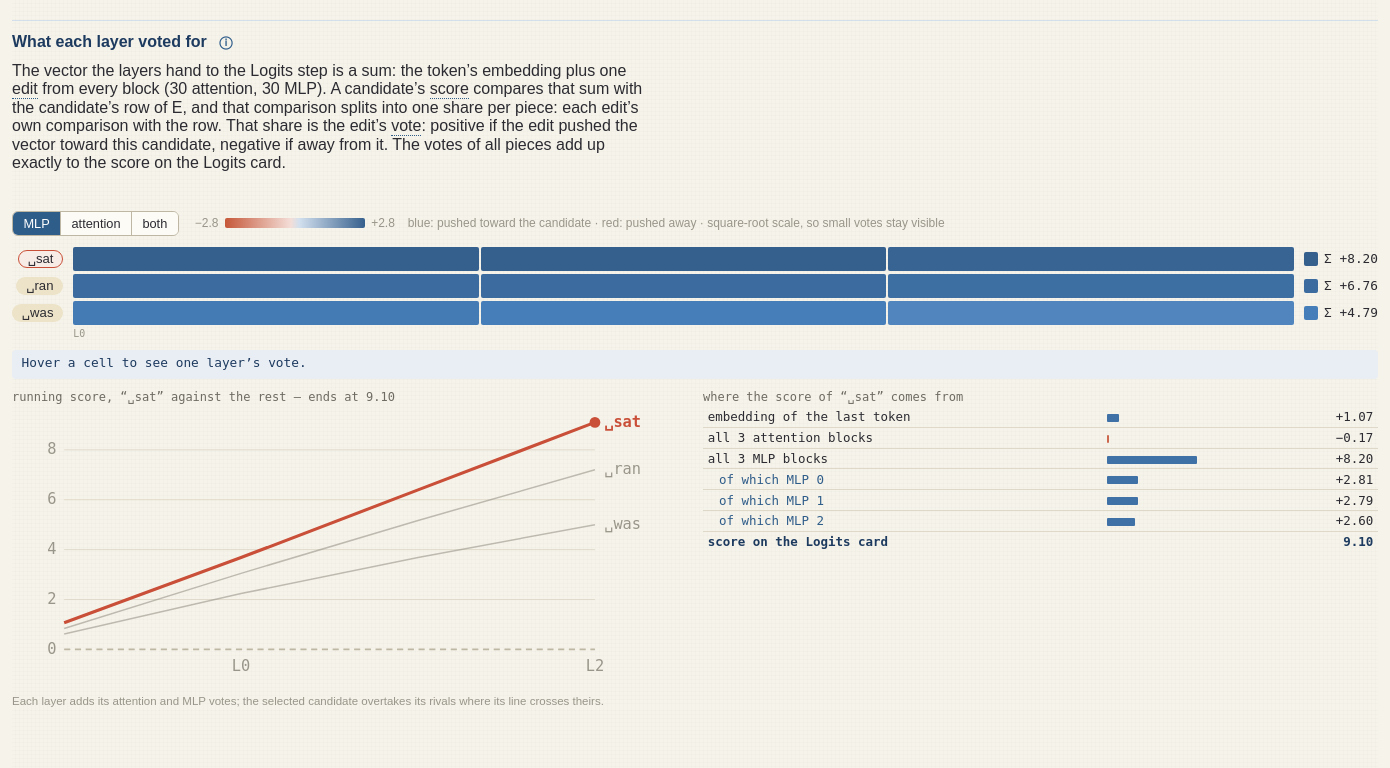
Test case: hovering a cell writes its vote into the readout line
The image size is (1390, 768).
Expected: the text with test id "vote-readout" shows "Hover a cell", [22, 355, 307, 370]
Hover over the 2nd element with test id "vote-cell" at (683, 259), box [481, 247, 886, 271]
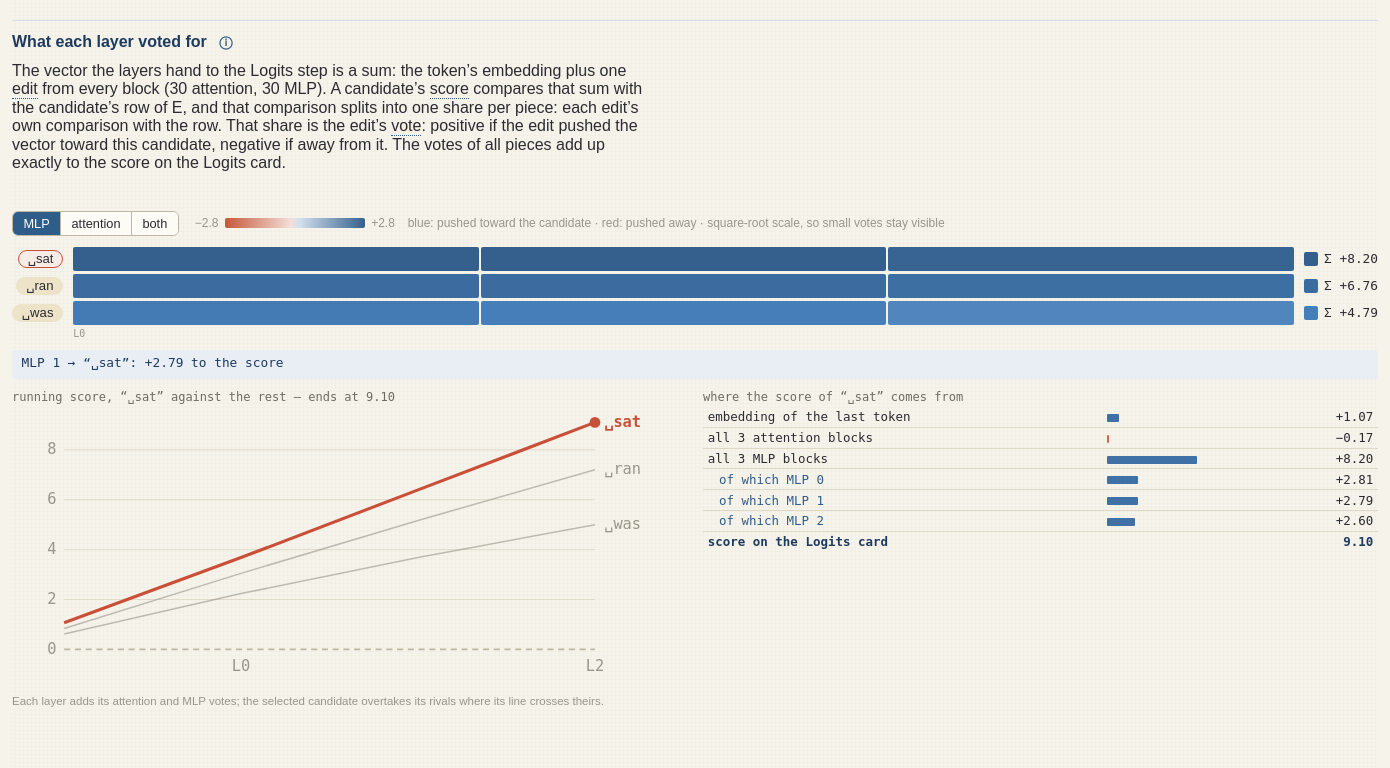
Click the button with test id "votes-block-toggle" showing "both" at (154, 223), box [131, 212, 178, 234]
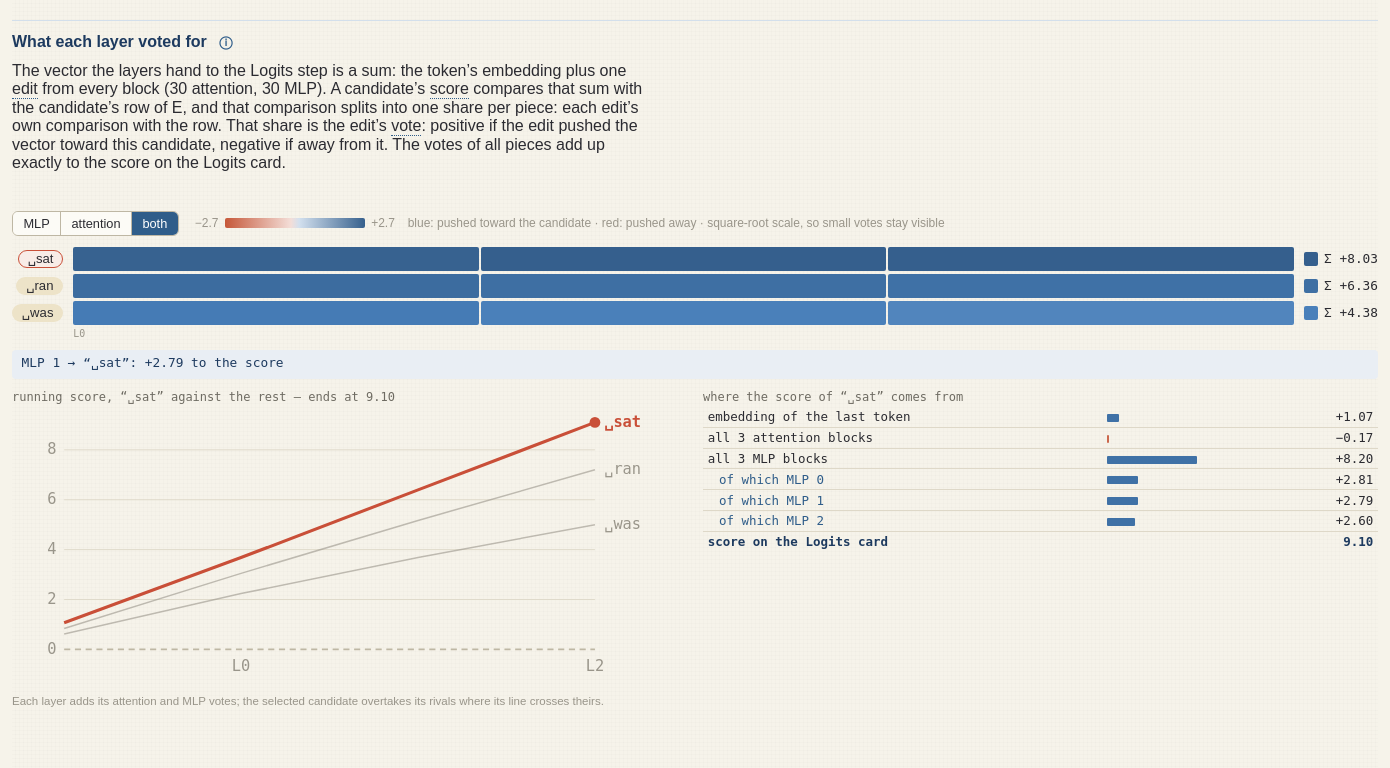
Hover over the 6th element with test id "vote-cell" at (1091, 286), box [888, 274, 1294, 298]
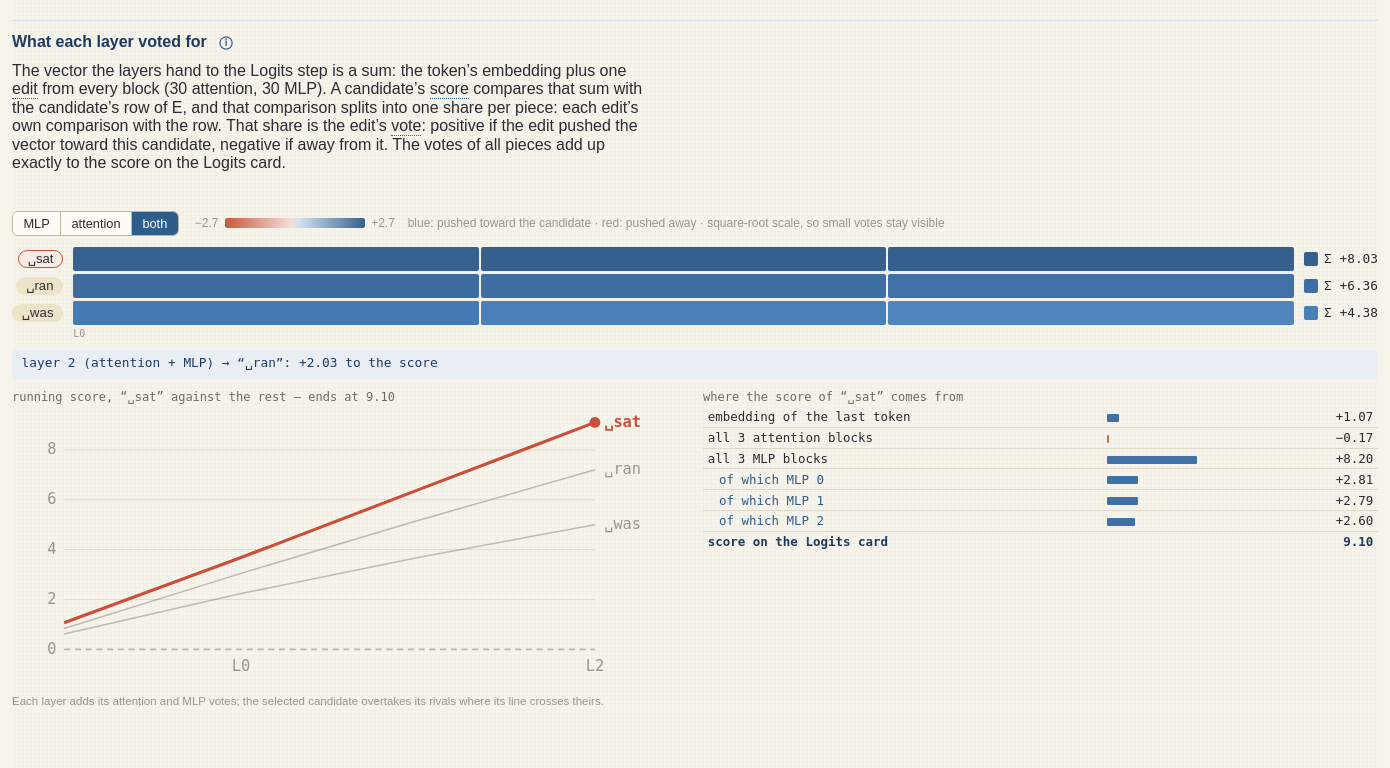
Now the text with test id "vote-readout" shows "layer 2 (attention + MLP) → “␣ran”", box [22, 355, 438, 370]
